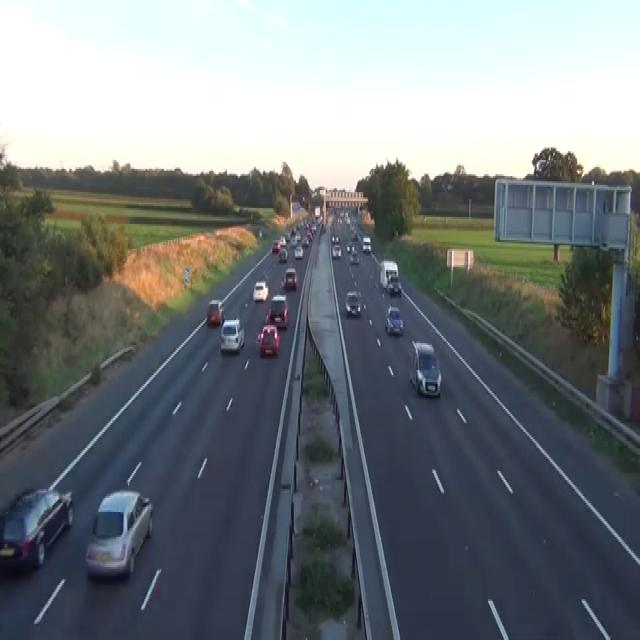Car: (0, 485, 73, 571), (84, 489, 153, 578), (409, 339, 441, 396), (219, 318, 244, 354), (266, 293, 288, 329), (257, 323, 279, 358), (385, 304, 403, 336), (206, 299, 224, 325), (345, 290, 360, 316), (283, 266, 297, 290), (387, 275, 402, 297), (252, 281, 268, 300), (362, 236, 371, 252), (278, 247, 288, 261), (294, 244, 303, 258), (332, 244, 341, 258), (350, 251, 359, 265), (271, 240, 279, 252), (331, 233, 339, 243), (278, 235, 286, 245), (346, 242, 354, 252), (301, 237, 308, 247), (284, 231, 290, 242), (290, 235, 296, 245), (351, 231, 357, 240), (351, 244, 357, 252), (321, 224, 326, 233), (345, 217, 350, 226), (295, 233, 301, 240), (258, 228, 262, 238), (337, 217, 342, 224)
Truck: (379, 260, 398, 288)
